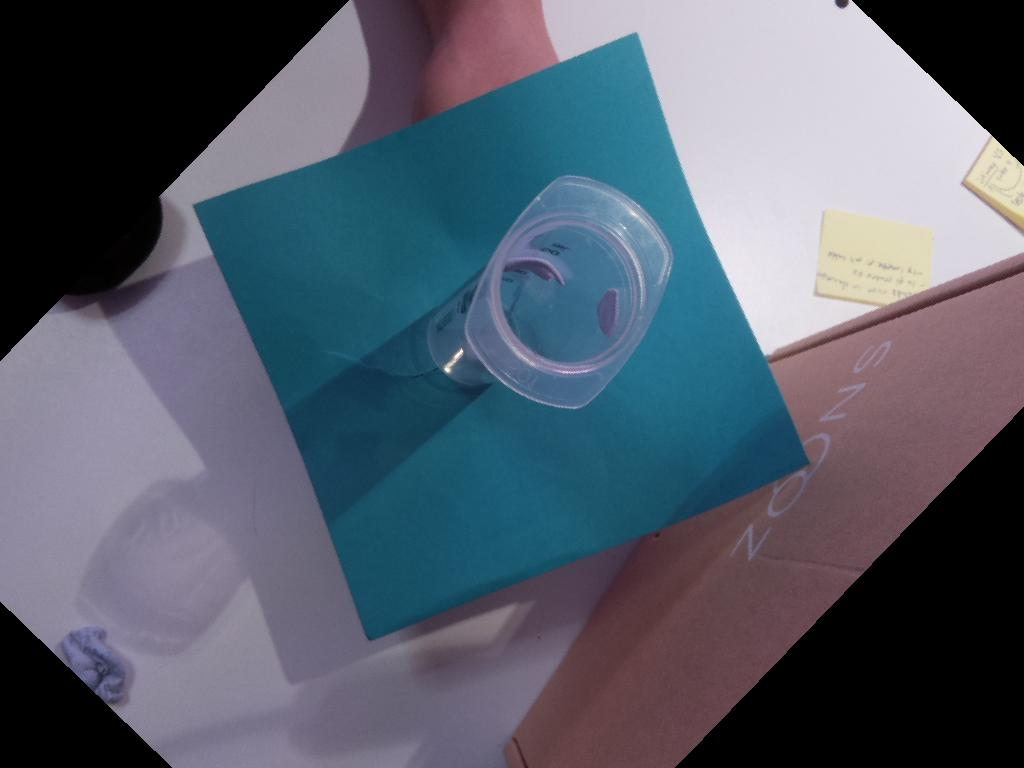dirty: (465, 173, 674, 411)
